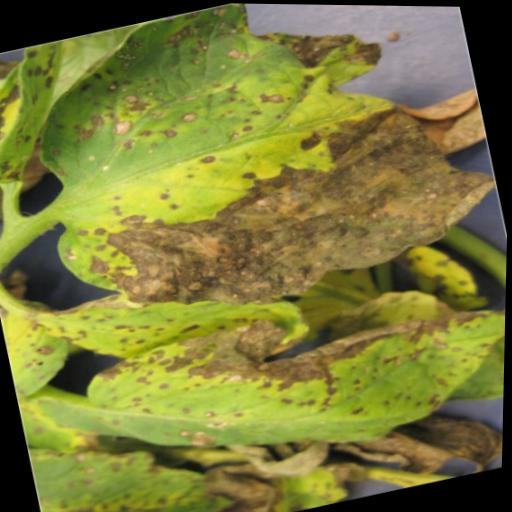Septoria: (7, 0, 512, 347), (43, 259, 507, 505), (0, 246, 322, 407), (28, 404, 243, 512)
